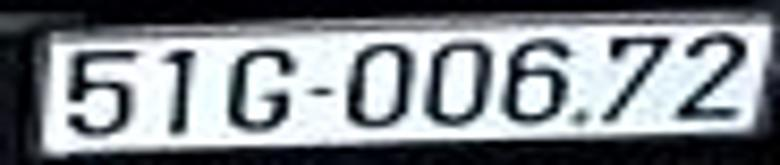-: (307, 74, 338, 103)
.: (567, 104, 588, 128)
0: (343, 39, 408, 132), (426, 36, 490, 130)
1: (155, 47, 197, 130)
2: (682, 34, 749, 124)
5: (61, 47, 137, 142)
6: (502, 40, 566, 127)
7: (603, 30, 667, 126)
G: (217, 41, 295, 132)
